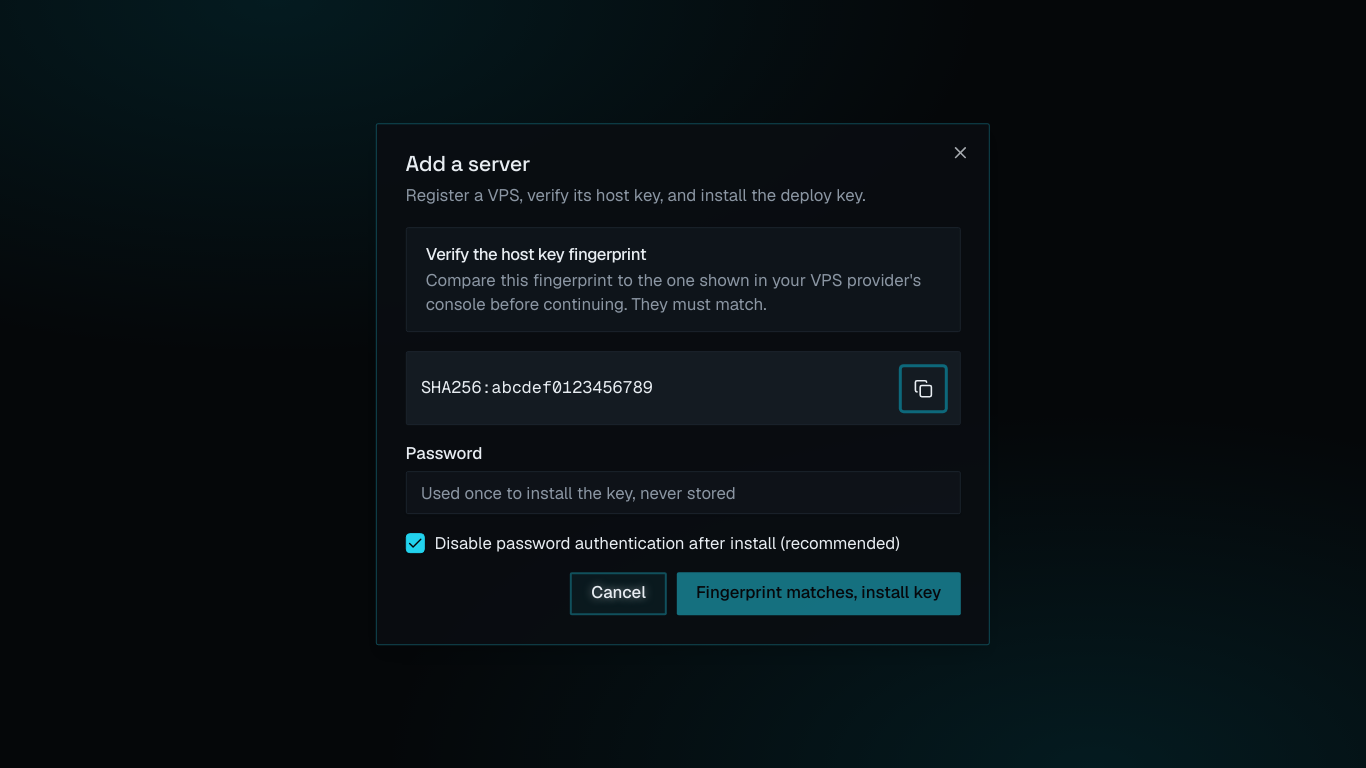
Test: AddServerDialog › surfaces the structured auth error message when the root password is wrong
Step 1. Type "wrongpass" into the password field labelled "Password" → (683, 493), box [406,471,960,514]
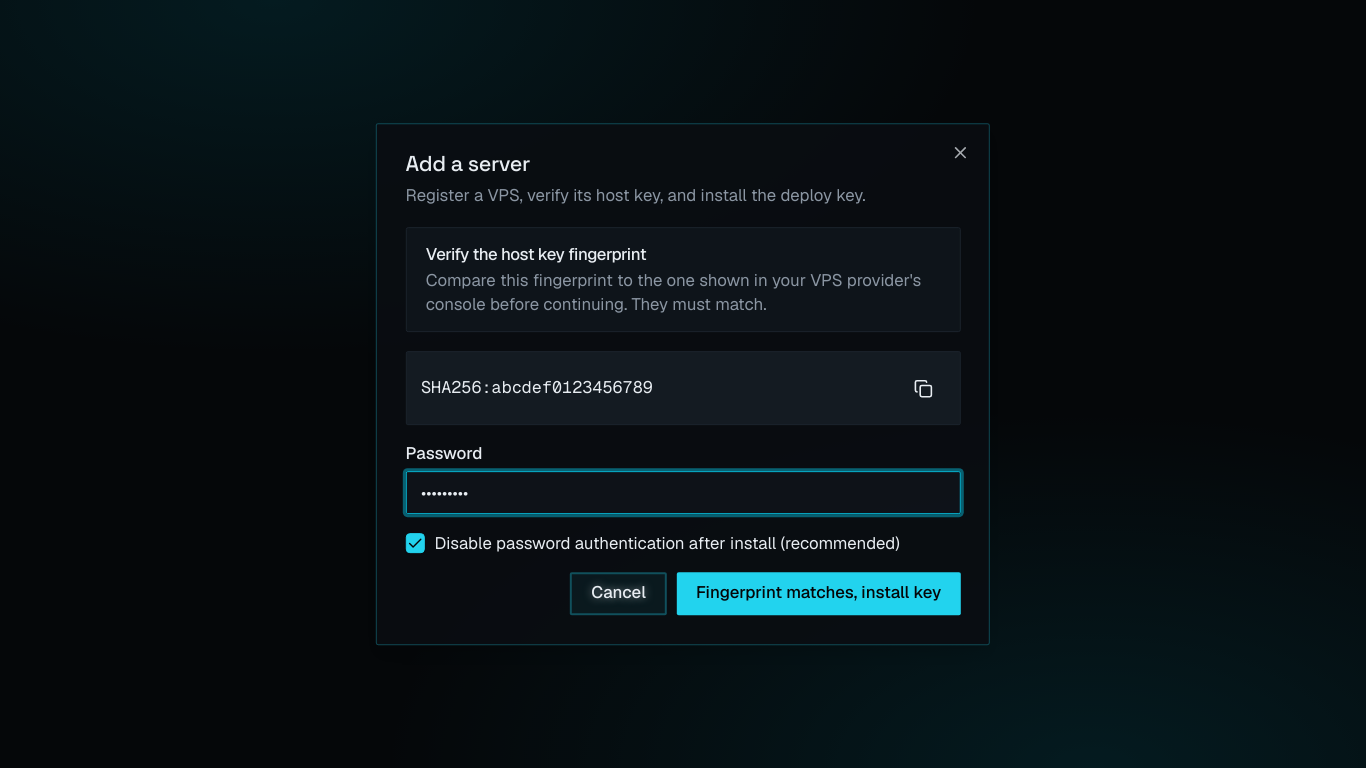
Step 2. Click the button "Fingerprint matches, install key" → (819, 594), box [677,572,960,615]
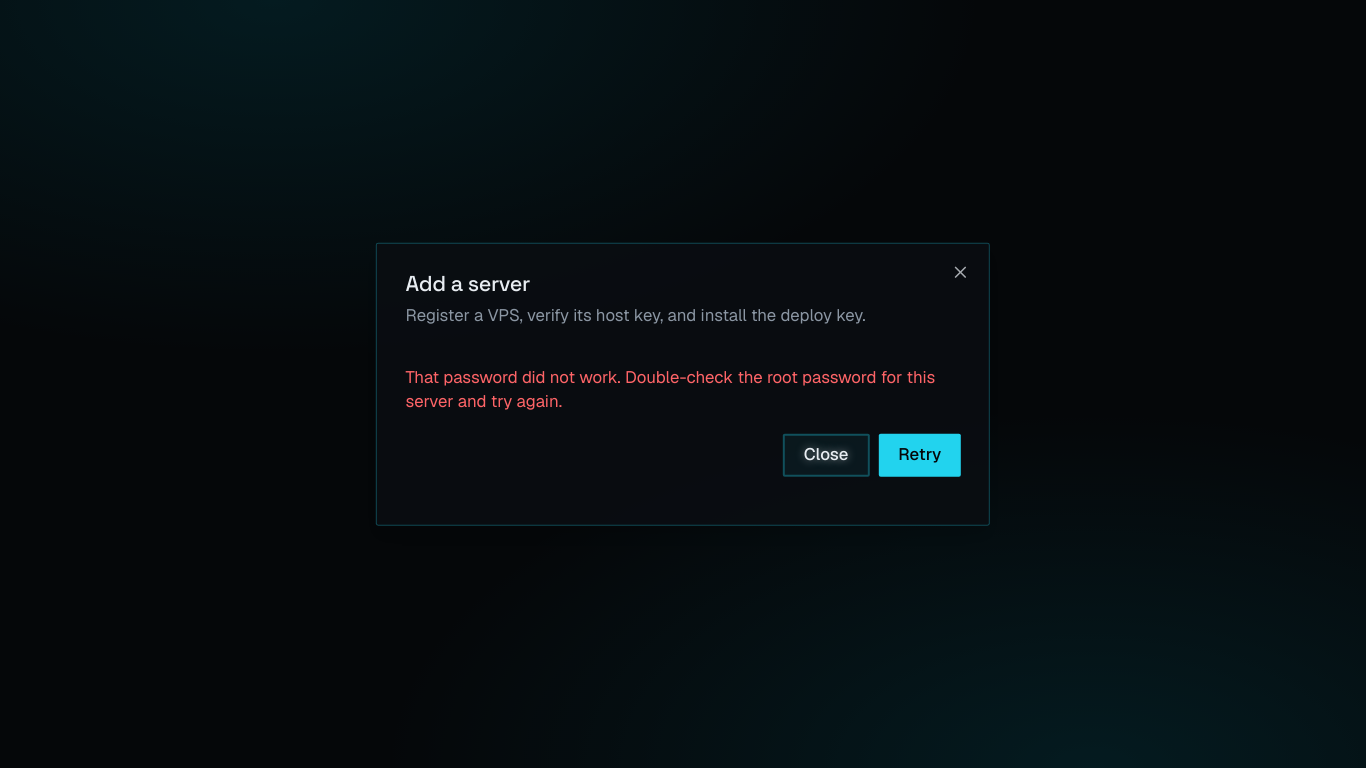
Expected: the text "That password did not work" is shown, [406,366,935,412]
